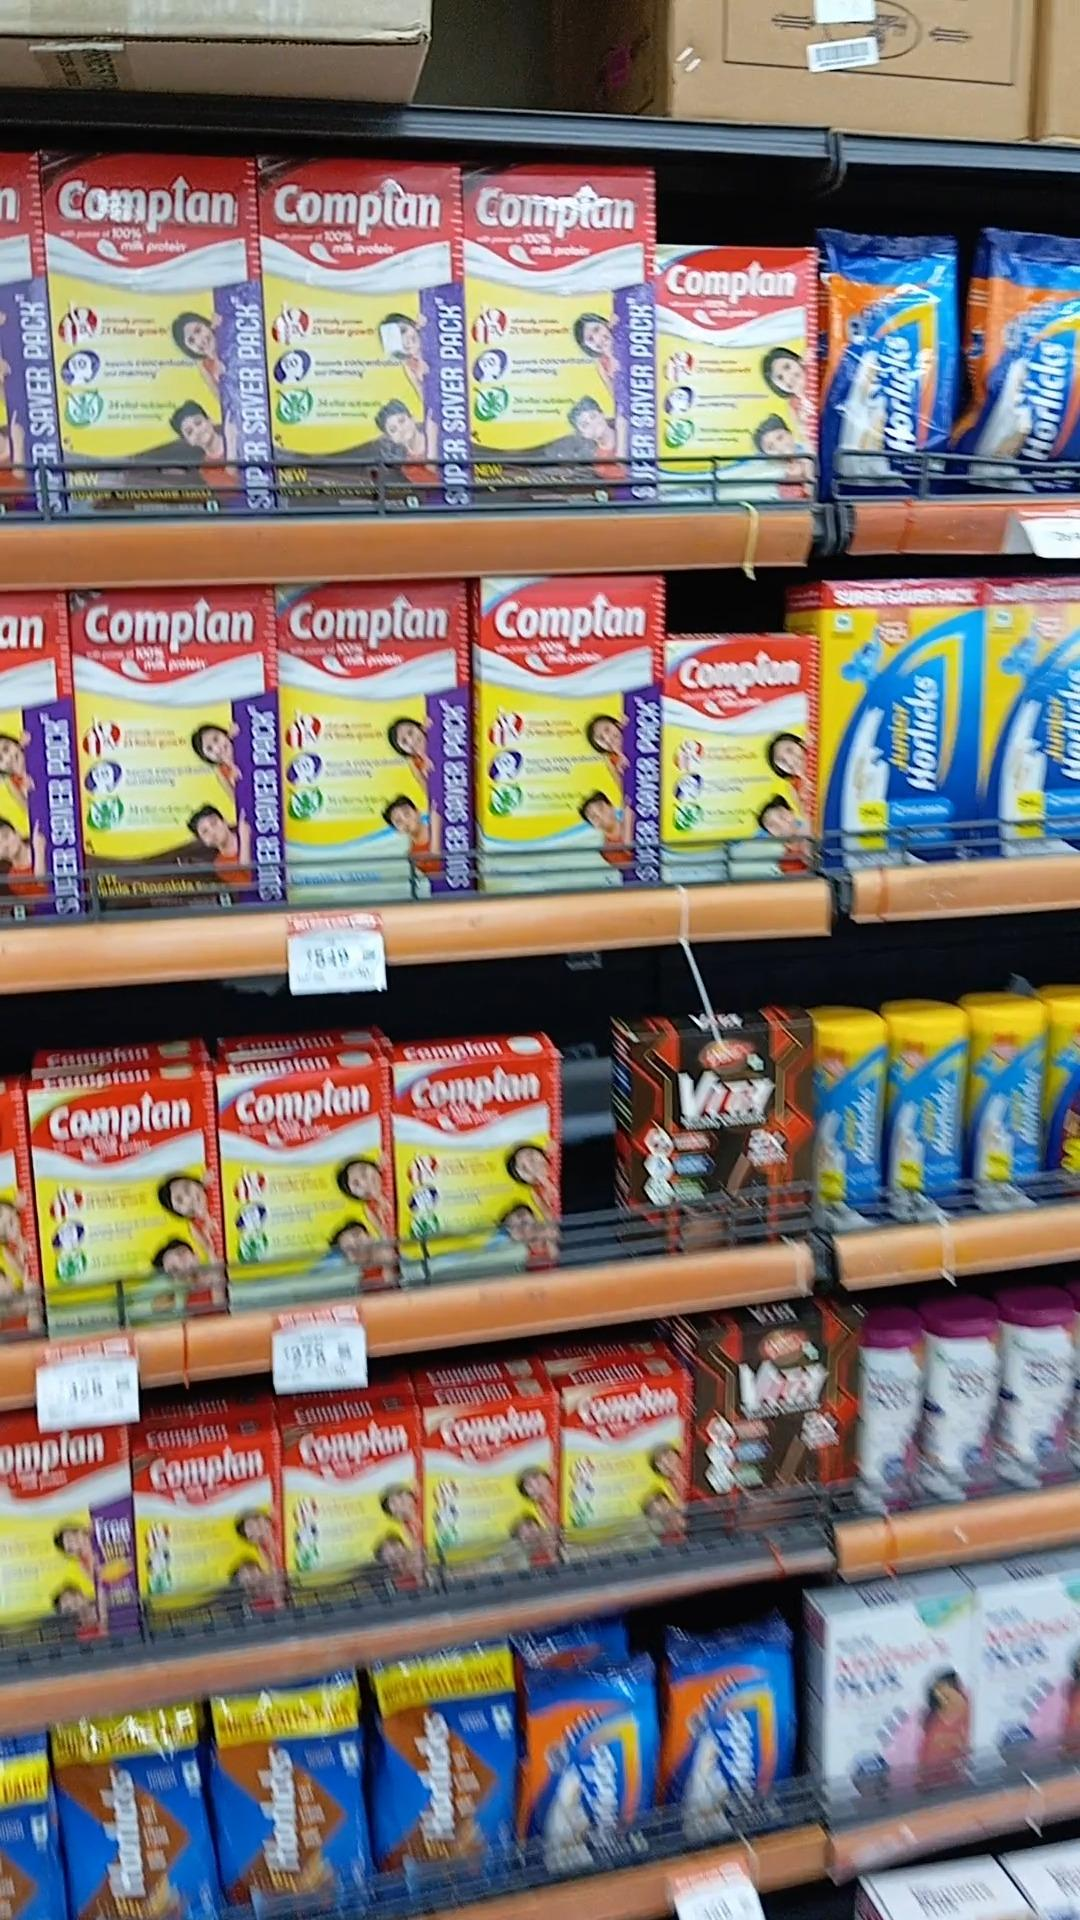COMPLAN_CHOCOLATE_1_KG_PACK: (40, 152, 241, 513), (255, 148, 454, 512), (71, 592, 276, 916), (460, 170, 645, 508), (3, 1429, 127, 1663)
COMPLAN_CHOCOLATE_500_GMS_PACK: (137, 1441, 269, 1638), (285, 1423, 417, 1613)
COMPLAN_CREAMY_CLASSIC_500_G_PACK: (653, 244, 815, 500), (222, 1076, 385, 1313), (392, 1063, 559, 1287), (665, 638, 810, 882)
COMPLAN_KESAR_BADAM_500_GMS_PACK: (426, 1406, 558, 1602), (567, 1381, 684, 1565)
COMPLAN_PISTA_BADAM_500_GMS_PACK: (33, 1087, 211, 1333)
HORLICKS_JUNIOR_VANILLA_500_GM_JAR: (972, 997, 1048, 1215), (895, 1005, 967, 1225), (818, 1022, 886, 1233)
HORLICK_CHOCOLATE_750_G_POUCH: (216, 1688, 363, 1920), (377, 1662, 510, 1900), (58, 1712, 203, 1920)
HORLICK_CLASSIC_MALT_750_G_POUCH: (824, 235, 945, 497), (977, 235, 1080, 505), (533, 1655, 651, 1876), (667, 1636, 793, 1838)
